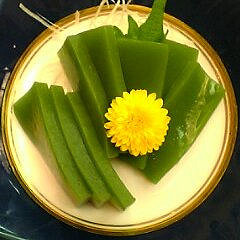dandelion: (97, 83, 181, 162)
